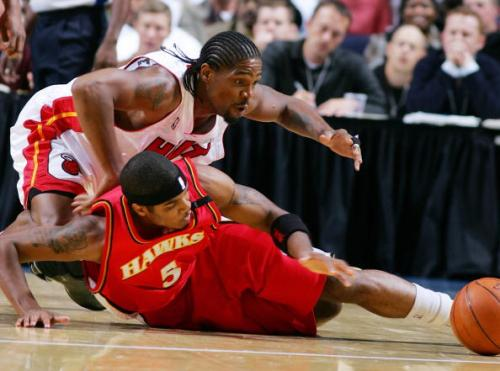fall: (5, 140, 493, 346)
